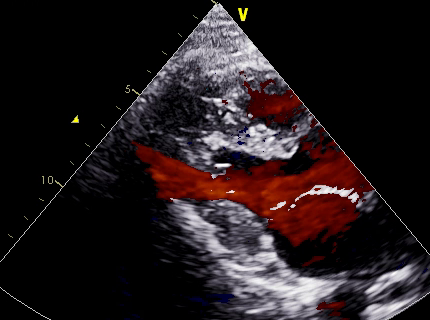AR: (163, 142, 324, 195)
